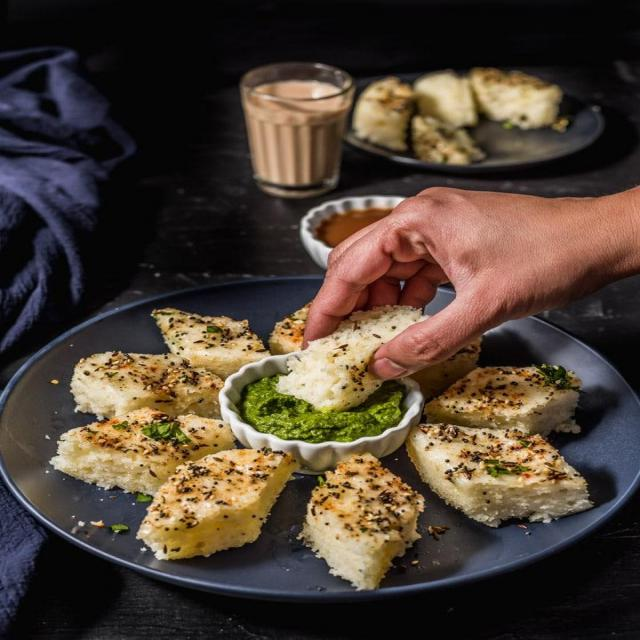dhokla: (73, 304, 584, 581)
